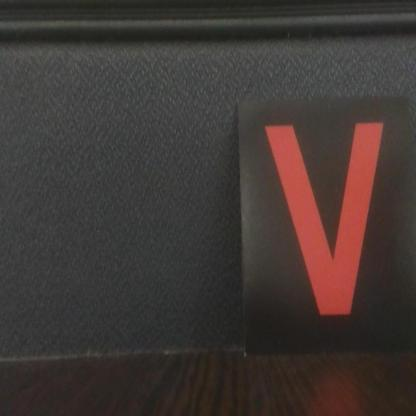v: (237, 96, 407, 354)
